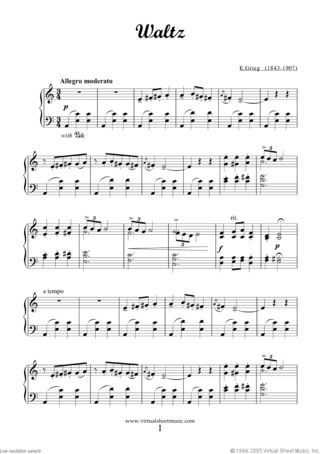Partitura: (20, 18, 304, 436)
